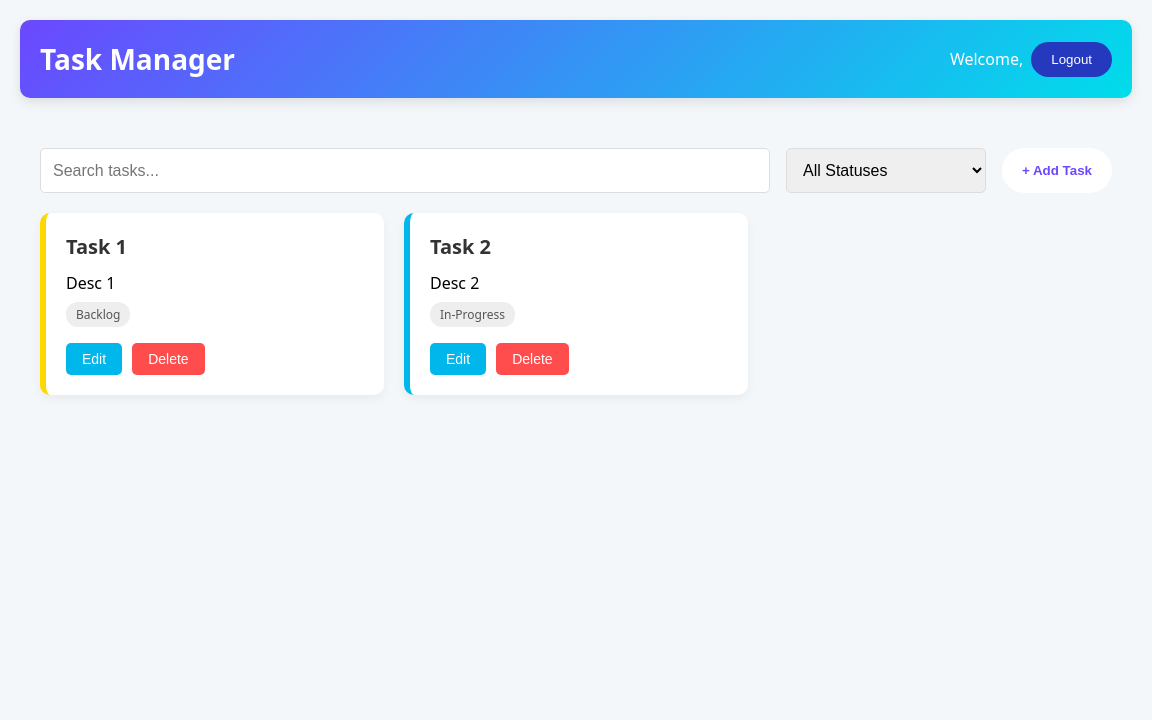
Scenario: App Component › opens add task modal
Expected: the heading "Task 1" is shown, [66,233,127,260]
What coordinates should you click on to do the following:
click the button "+ Add Task"
I would click on:
 (1057, 170)
Its box is [1002,148,1112,193].
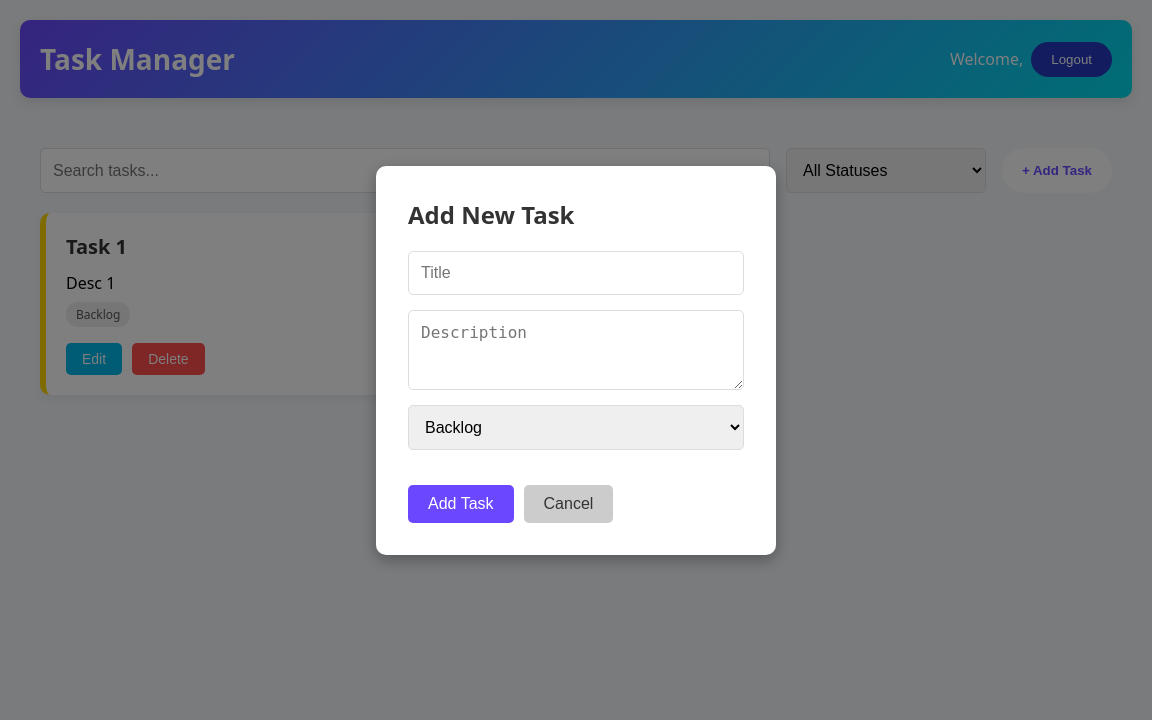
Expected: the heading "Add New Task" is shown, [408,198,574,230]
